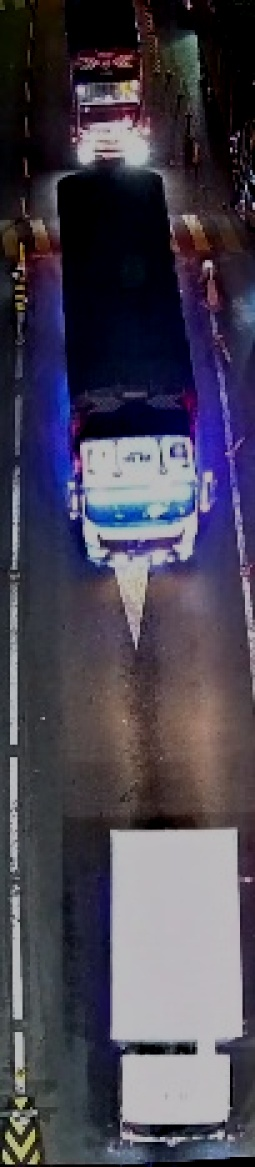truck: (47, 160, 206, 570), (108, 829, 246, 1153), (65, 6, 149, 163)
